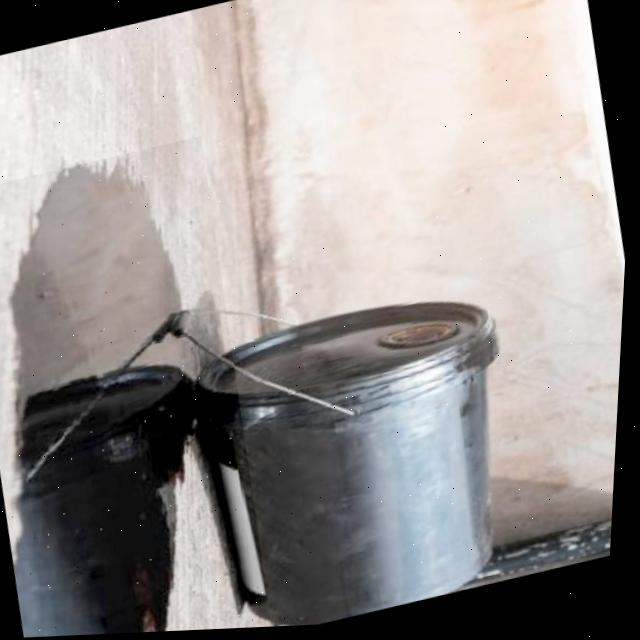spillage: (11, 166, 237, 638)
